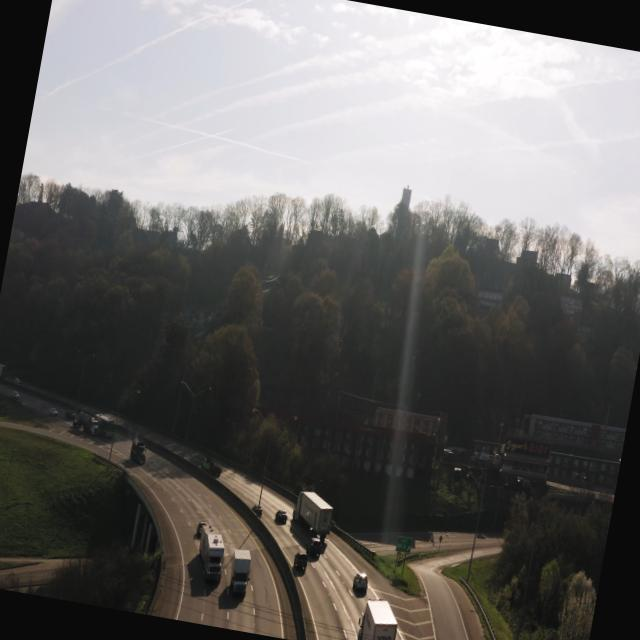Vehicle: (286, 486, 337, 550), (192, 524, 231, 590), (353, 595, 404, 640), (223, 544, 256, 602), (349, 568, 372, 600), (289, 547, 311, 580)
